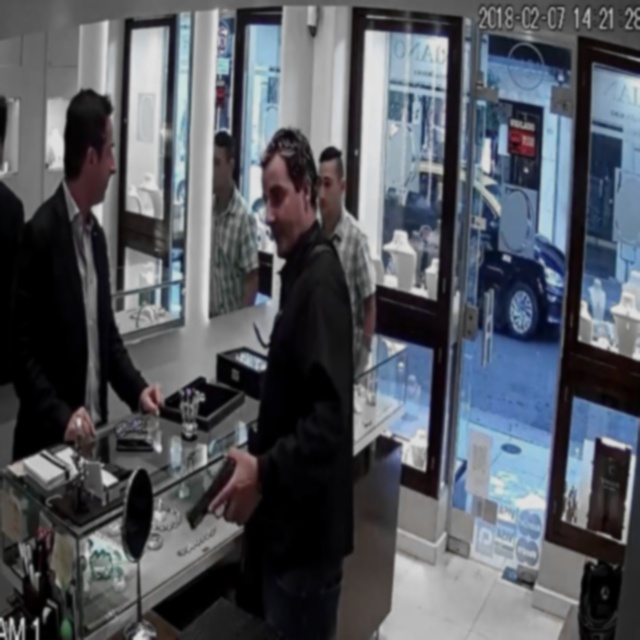gun: (177, 425, 260, 552)
